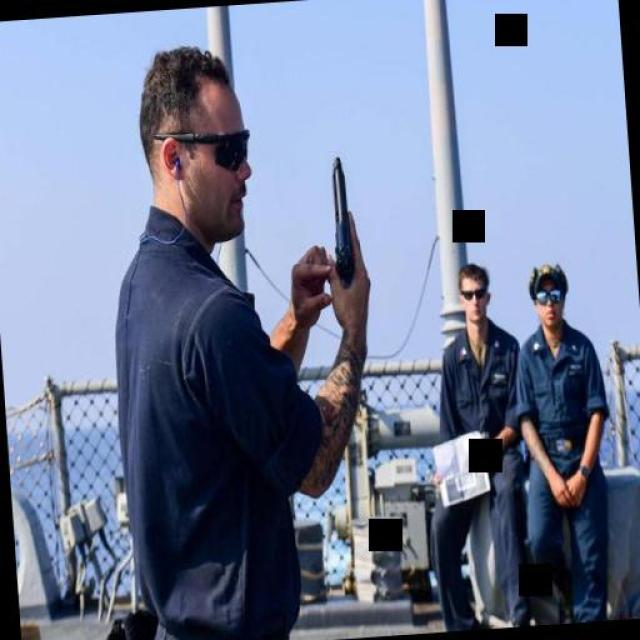gun: (320, 148, 361, 288)
